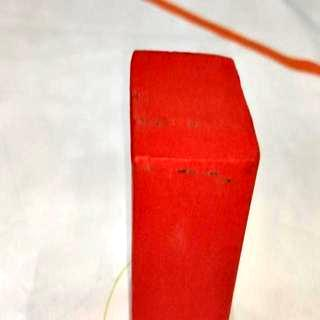redbox: (127, 48, 260, 320)
